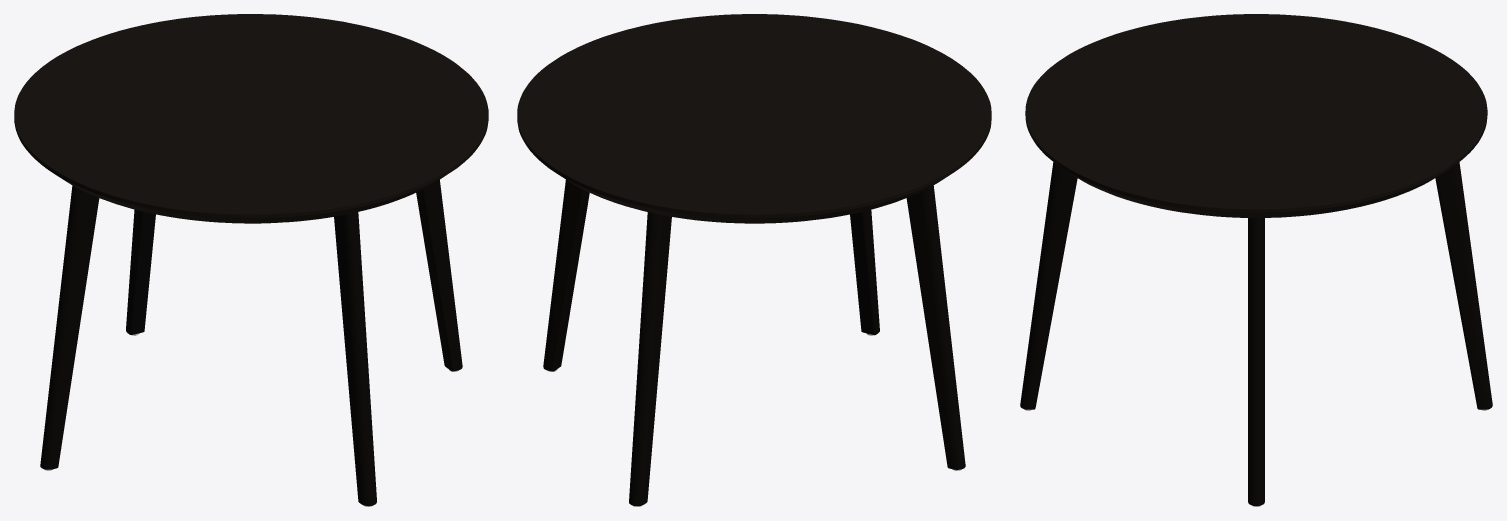
File: LISABO_50416501.glb
3 renders of one model, left to right at view 1: azimuth 30°, elevation 25°; view 2: azimuth 150°, elevation 25°; view 3: azimuth 270°, elevation 25°, orthographic. The views are drawn at different scales.
Parts seen in each view (by area): view 1: 50416501-LISABO001; view 2: 50416501-LISABO001; view 3: 50416501-LISABO001.
Boxes of the visible parts, box(x1,y1,x2,y2) form: 50416501-LISABO001: box(14, 14, 488, 506); 50416501-LISABO001: box(517, 14, 991, 506); 50416501-LISABO001: box(1020, 14, 1492, 506).
Bounding box in the file's own units: 1.07 × 0.745 × 1.07.
Materials: 1 (1 with a texture image).
